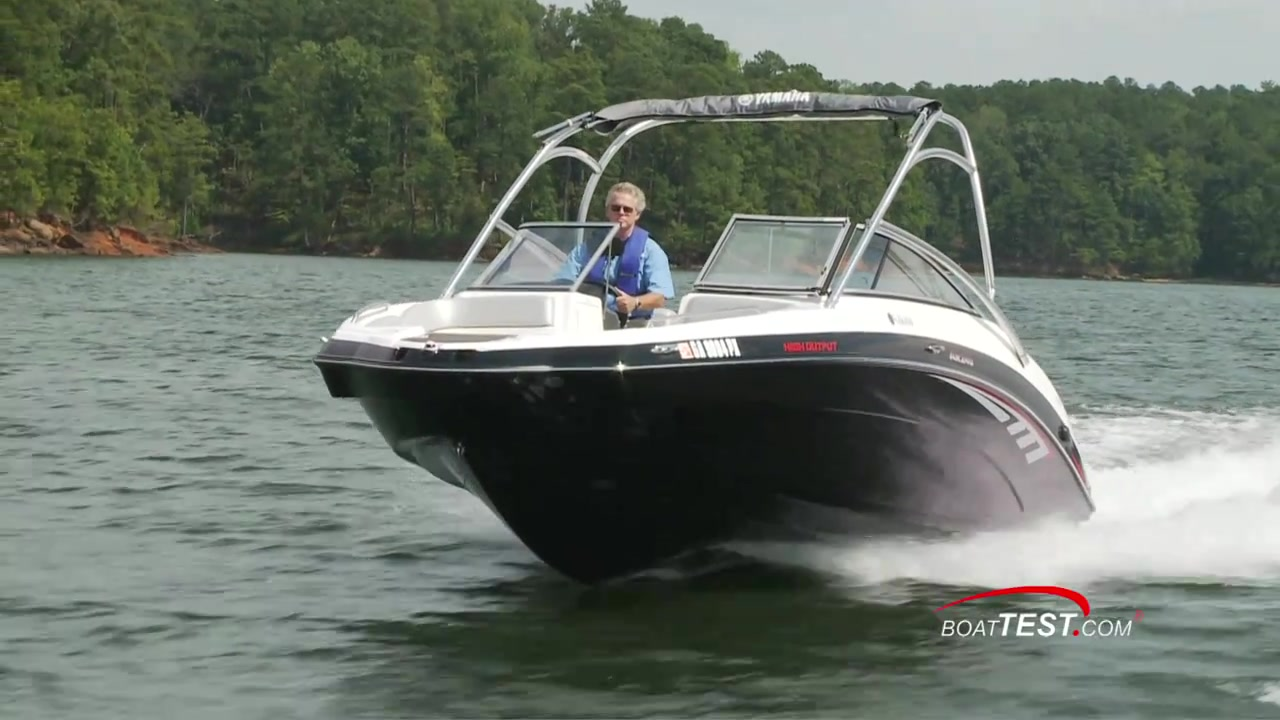boat: (310, 88, 1098, 588)
